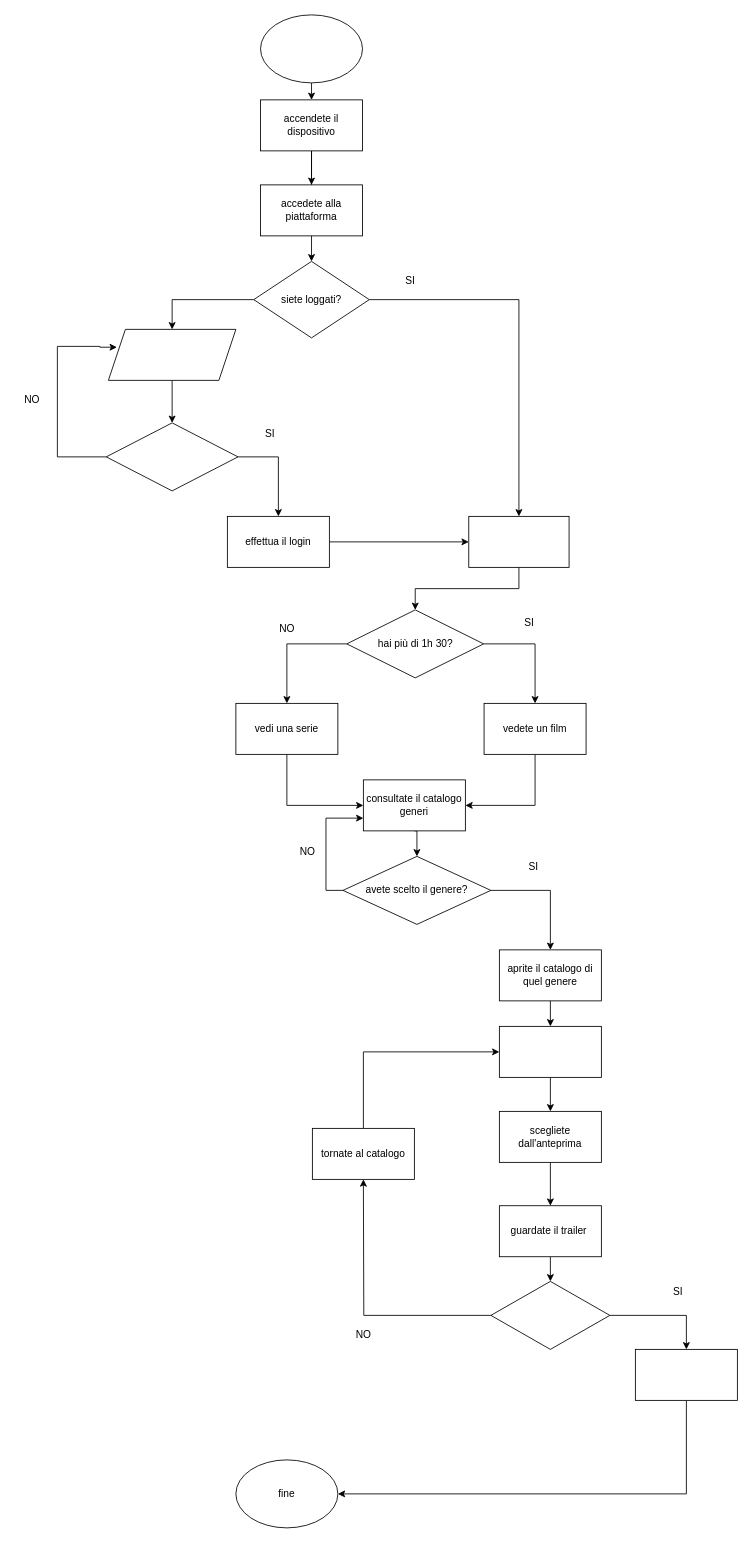
The diagram is 752 pixels wide and 1543 high, and some of its shapes have lost their labels. Each missing label, with the centre of its shape:
"guardate ciò che avete scelto" goes at (x=686, y=1374).
"i dati sono corretti?" goes at (x=171, y=456).
"inizio" goes at (x=311, y=48).
"inserisci username e password" goes at (x=172, y=354).
"proseguite sul catalogo generico" goes at (x=518, y=541).
"scorrete nel catalogo" goes at (x=550, y=1051).
"vi interessa?" goes at (x=550, y=1315).
